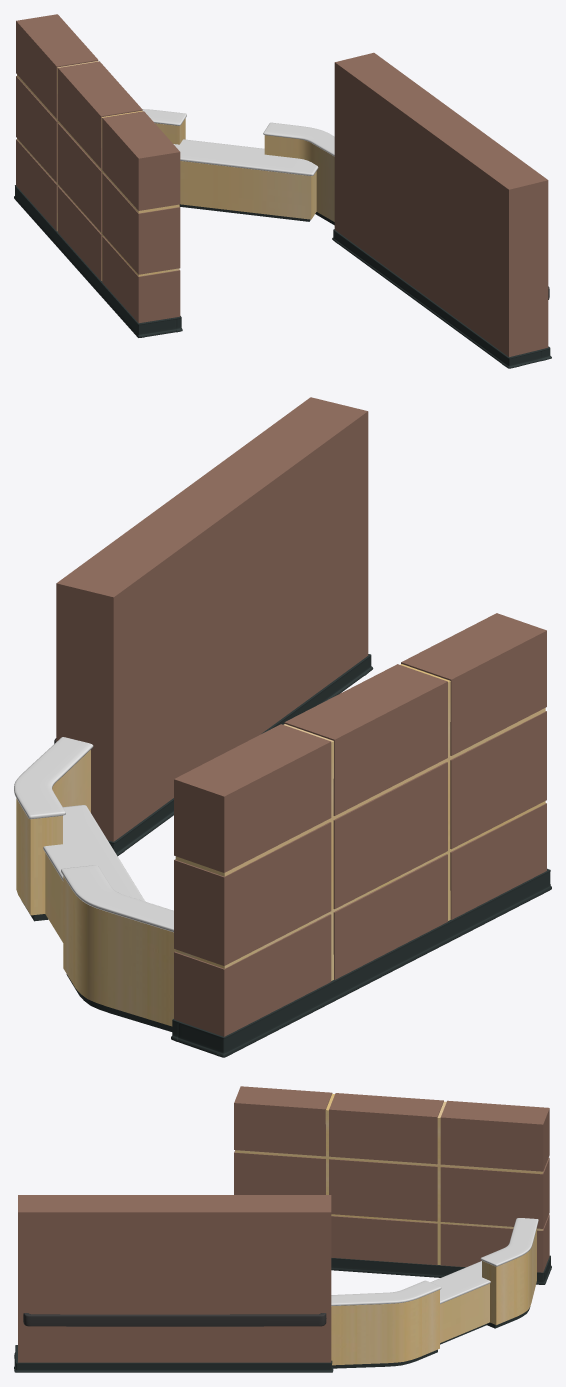
The model's file is Lobby desk walls.fbx.
The picture shows the model from 3 angles, top to bottom: view 1: azimuth 30°, elevation 25°; view 2: azimuth 150°, elevation 25°; view 3: azimuth 270°, elevation 25°; orthographic projection. The views are drawn at different scales.
Parts seen in each view (by area): view 1: Wall1 (×2), middle_md, Wall_bottom_Decor4 (×2), middel_top, lef_side_bue, left_side_cube, Wall_bottom_Decor2, lEF_SIDE_RUI, LEFT_SIDEKNF; view 2: Wall1 (×2), LEFT_SIDEKNF, Wall_bottom_Decor4 (×2), lef_side_bue, middel_top, left_side_cube, lEF_SIDE_RUI, middle_md, Wall_bottom_Decor3; view 3: Wall1 (×2), lef_side_bue, Wall_bottom_Decor1 (×2), Middle_Handle1, LEFT_SIDEKNF, middle_md, left_side_cube, lEF_SIDE_RUI, middel_top, left_side_cube1.
Boxes of the visible parts, x1=… form: Wall1 (×2): x1=16, y1=14, x2=548, y2=357; middle_md: x1=180, y1=161, x2=316, y2=219; Wall_bottom_Decor4 (×2): x1=14, y1=185, x2=520, y2=368; middel_top: x1=173, y1=139, x2=318, y2=175; lef_side_bue: x1=264, y1=135, x2=334, y2=221; left_side_cube: x1=263, y1=122, x2=334, y2=156; Wall_bottom_Decor2: x1=133, y1=317, x2=176, y2=336; lEF_SIDE_RUI: x1=142, y1=109, x2=186, y2=125; LEFT_SIDEKNF: x1=155, y1=118, x2=185, y2=144; Wall1 (×2): x1=56, y1=397, x2=546, y2=1036; LEFT_SIDEKNF: x1=63, y1=876, x2=175, y2=1026; Wall_bottom_Decor4 (×2): x1=108, y1=654, x2=551, y2=1057; lef_side_bue: x1=16, y1=750, x2=90, y2=915; middel_top: x1=43, y1=805, x2=145, y2=901; left_side_cube: x1=14, y1=737, x2=93, y2=819; lEF_SIDE_RUI: x1=61, y1=865, x2=173, y2=932; middle_md: x1=45, y1=853, x2=63, y2=942; Wall_bottom_Decor3: x1=178, y1=1021, x2=233, y2=1057; Wall1 (×2): x1=18, y1=1086, x2=549, y2=1362; lef_side_bue: x1=331, y1=1290, x2=439, y2=1365; Wall_bottom_Decor1 (×2): x1=14, y1=1258, x2=546, y2=1372; Middle_Handle1: x1=23, y1=1313, x2=326, y2=1326; LEFT_SIDEKNF: x1=482, y1=1228, x2=537, y2=1324; middle_md: x1=440, y1=1283, x2=489, y2=1342; left_side_cube: x1=331, y1=1280, x2=441, y2=1306; lEF_SIDE_RUI: x1=480, y1=1218, x2=538, y2=1266; middel_top: x1=430, y1=1261, x2=490, y2=1303; left_side_cube1: x1=332, y1=1349, x2=437, y2=1368.
Bounding box in the file's own units: 25.01 × 14.45 × 43.99.
5 materials, 1 textured.
